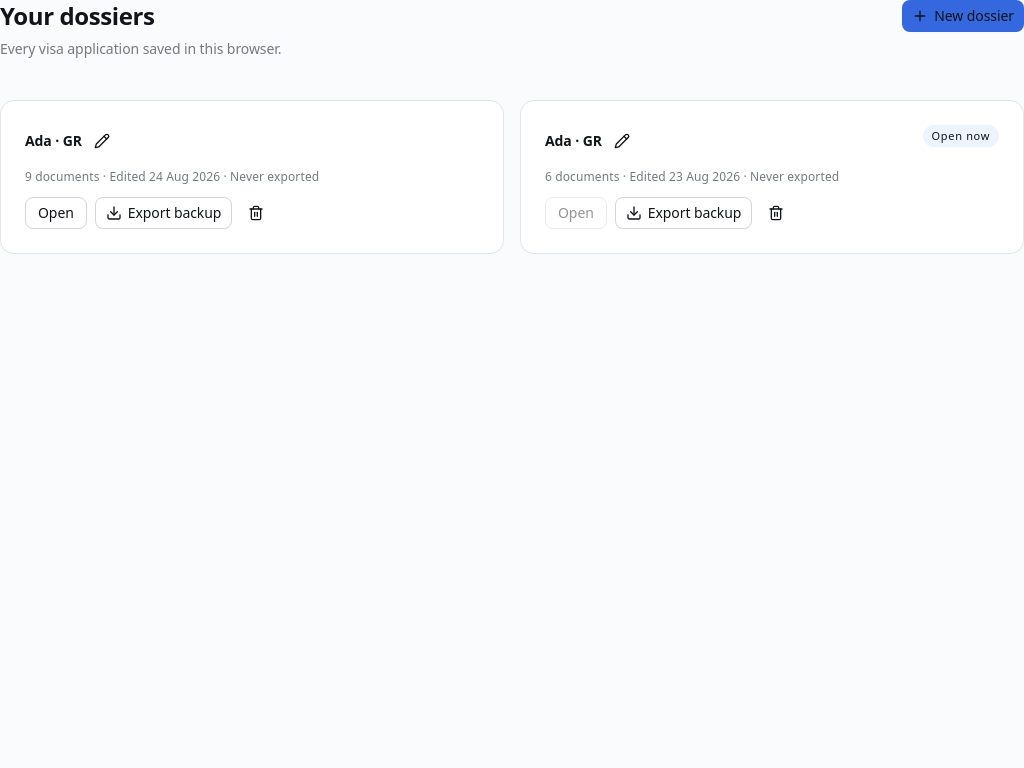
Test: backup status and export › says that deleting the open dossier will close it
The width and height of the screenshot is (1024, 768).
Step 1. Click the button named "Delete " below "6 documents" → {"x": 776, "y": 213}, box [760,197,792,229]
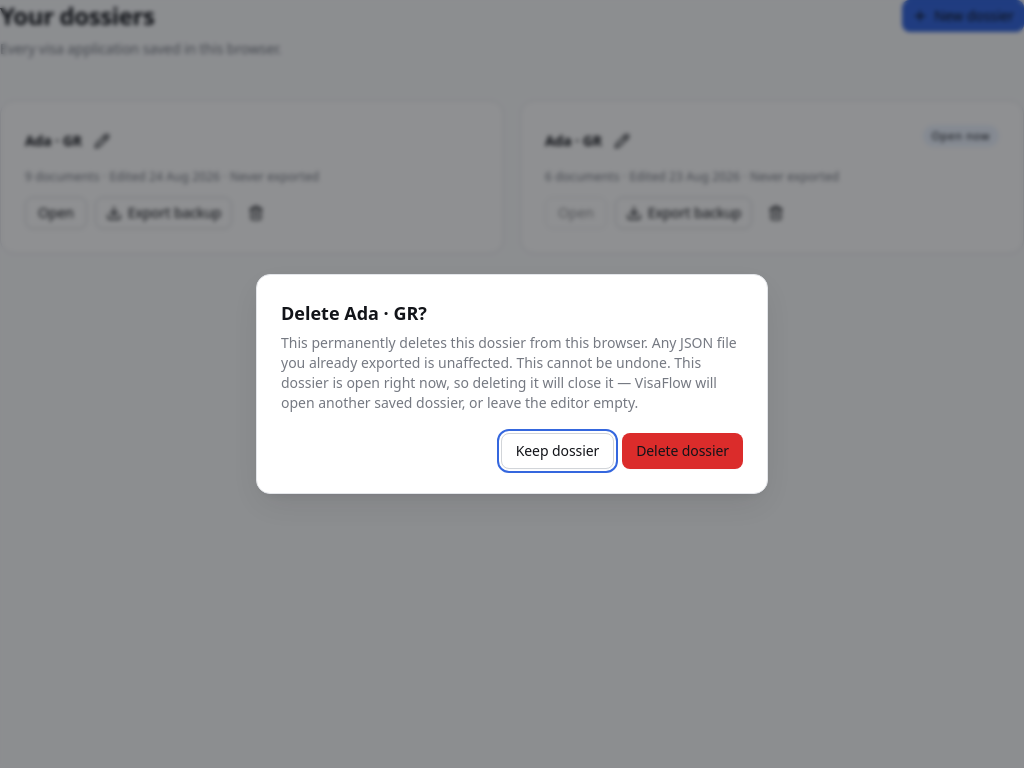
Now the text "This dossier is open right now, so delet" is shown, box [281,353,717,412]
